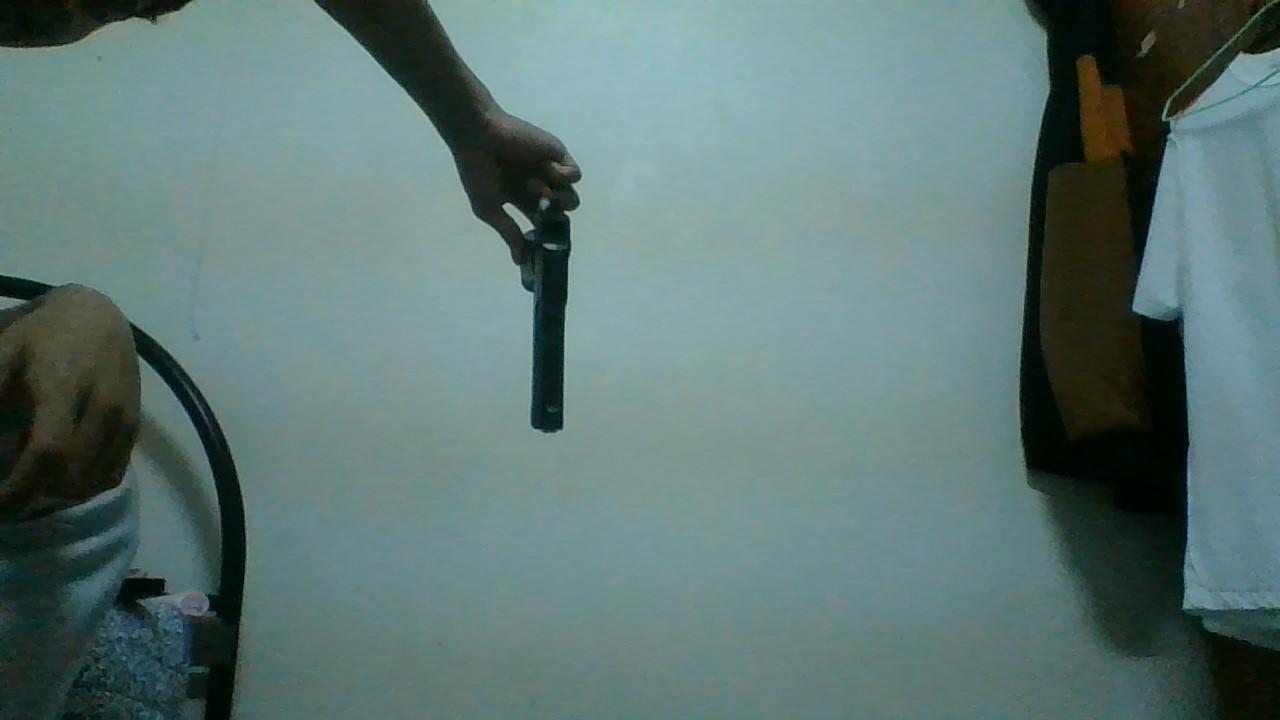weapon: (514, 207, 577, 439)
